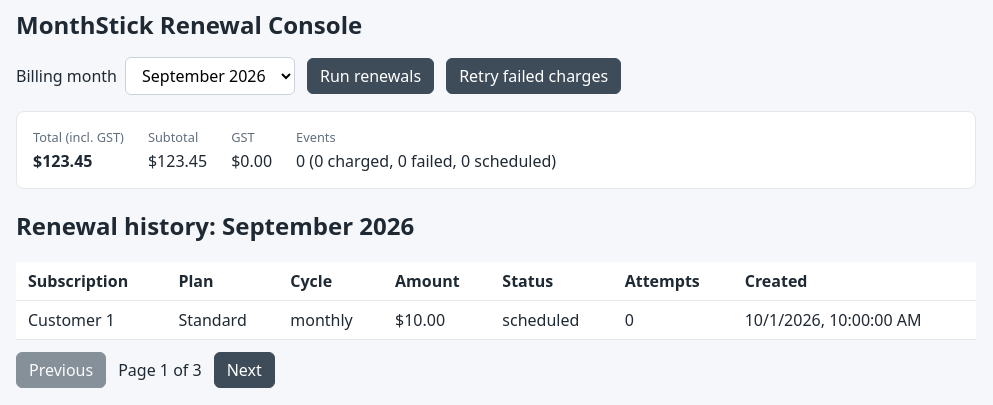
Test: App › requests the next page of history
Expected: the text "Customer 1" is shown, [16,300,166,339]
Click the button "Next". click: (244, 370)
box: [214,352,275,388]
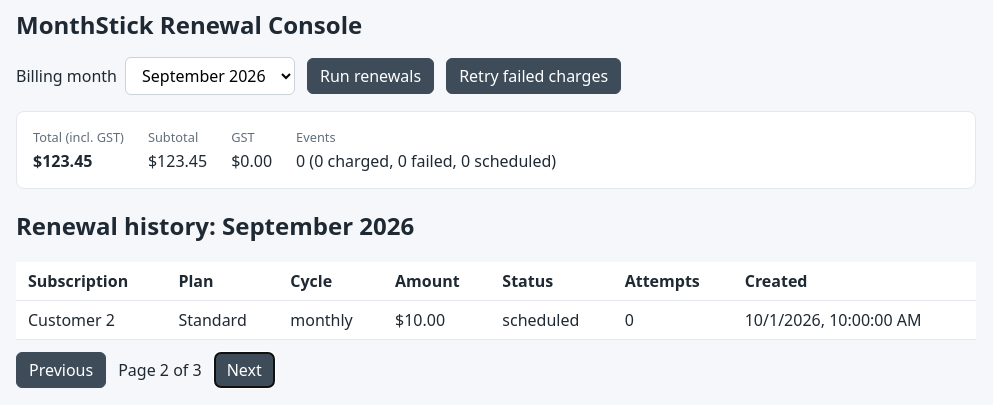
Expected: the text "Customer 2" is shown, [16,300,166,339]
Expected: the text "Page 2 of 3" is shown, [118,359,202,381]
